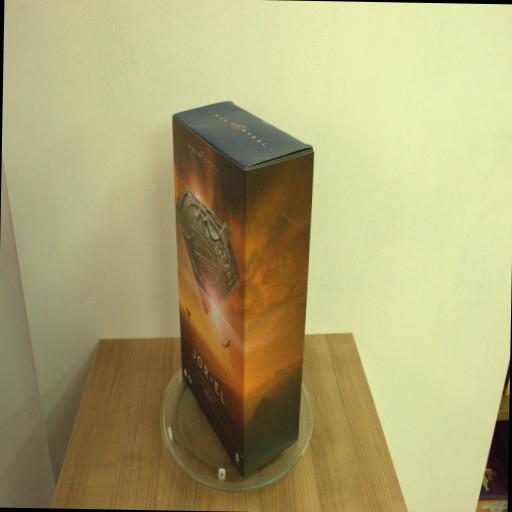superman: (165, 98, 317, 480)
